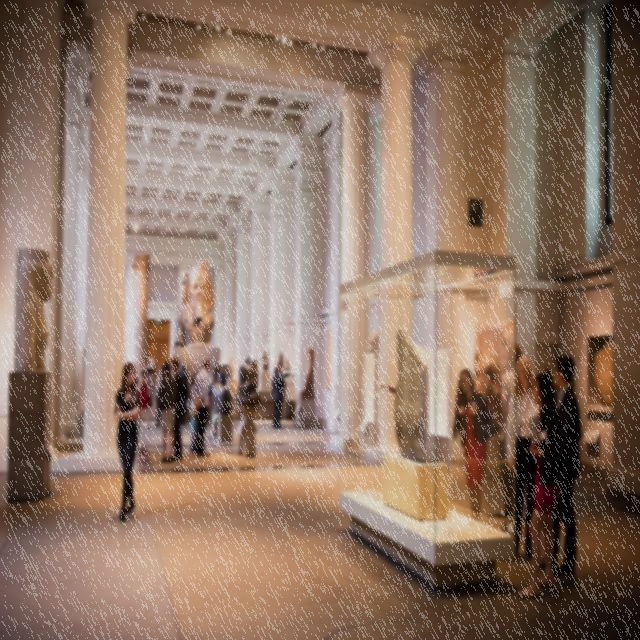pessoa: (517, 373, 566, 599), (540, 354, 582, 576), (504, 356, 540, 561), (452, 369, 499, 523), (115, 362, 142, 522), (18, 263, 53, 377), (172, 262, 214, 350), (472, 342, 522, 410), (157, 359, 177, 463), (192, 359, 210, 457), (168, 355, 183, 460), (188, 368, 206, 453), (272, 366, 286, 428), (136, 368, 150, 429), (152, 365, 166, 426), (208, 368, 218, 426), (496, 410, 508, 457), (180, 360, 188, 426), (303, 346, 314, 393), (144, 358, 156, 386), (378, 380, 398, 396), (366, 332, 379, 356), (214, 366, 227, 388), (274, 367, 295, 378), (552, 384, 560, 406), (262, 352, 268, 371), (493, 509, 504, 518), (540, 365, 552, 373), (570, 377, 576, 392), (342, 299, 348, 312), (284, 357, 290, 368), (135, 378, 140, 390), (252, 371, 258, 381), (246, 356, 250, 366), (591, 435, 596, 443), (178, 364, 182, 371)
